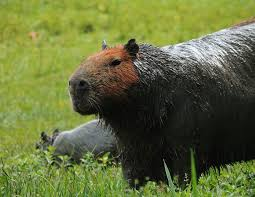capivara: (68, 17, 255, 187)
